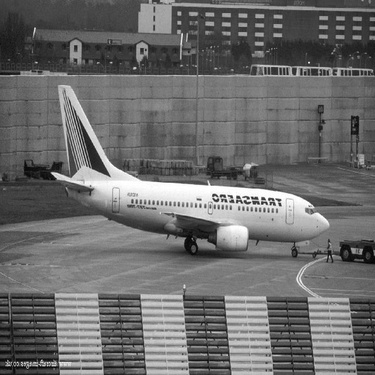airplane: (34, 78, 337, 269)
